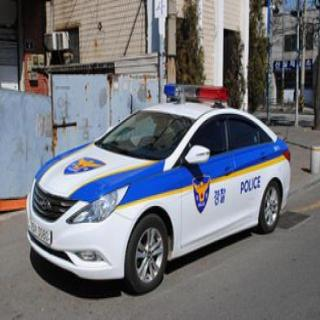Police_car: (26, 85, 292, 281)
